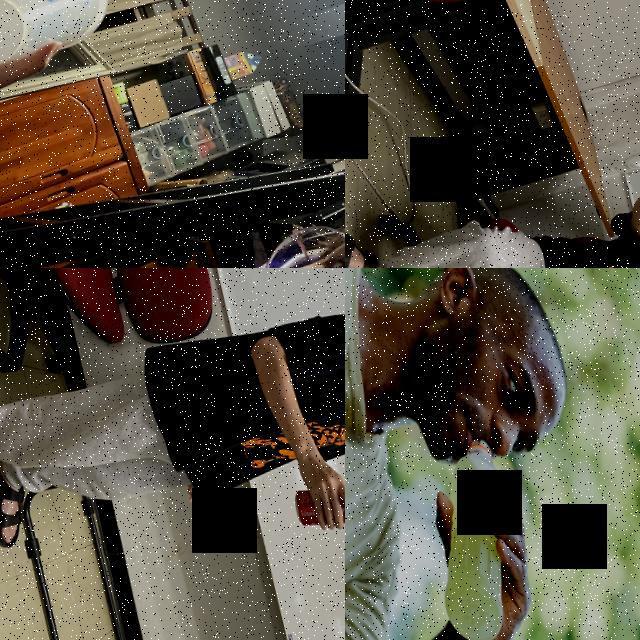bottle: (399, 432, 542, 640)
can: (287, 472, 345, 542)
cup: (0, 0, 118, 84)
